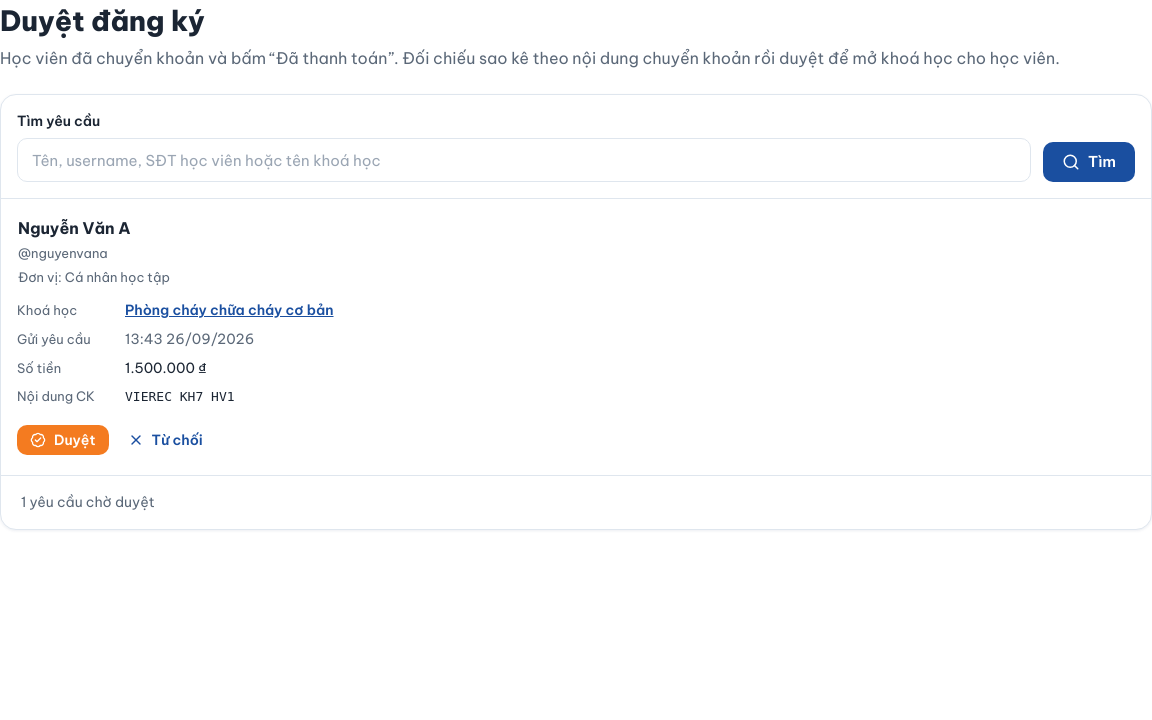
Test: EnrollmentRequestsPage (duyệt đăng ký) › approves a request so the learner can start the course
Click the button "Duyệt".
click(63, 440)  # box [17,424,108,455]
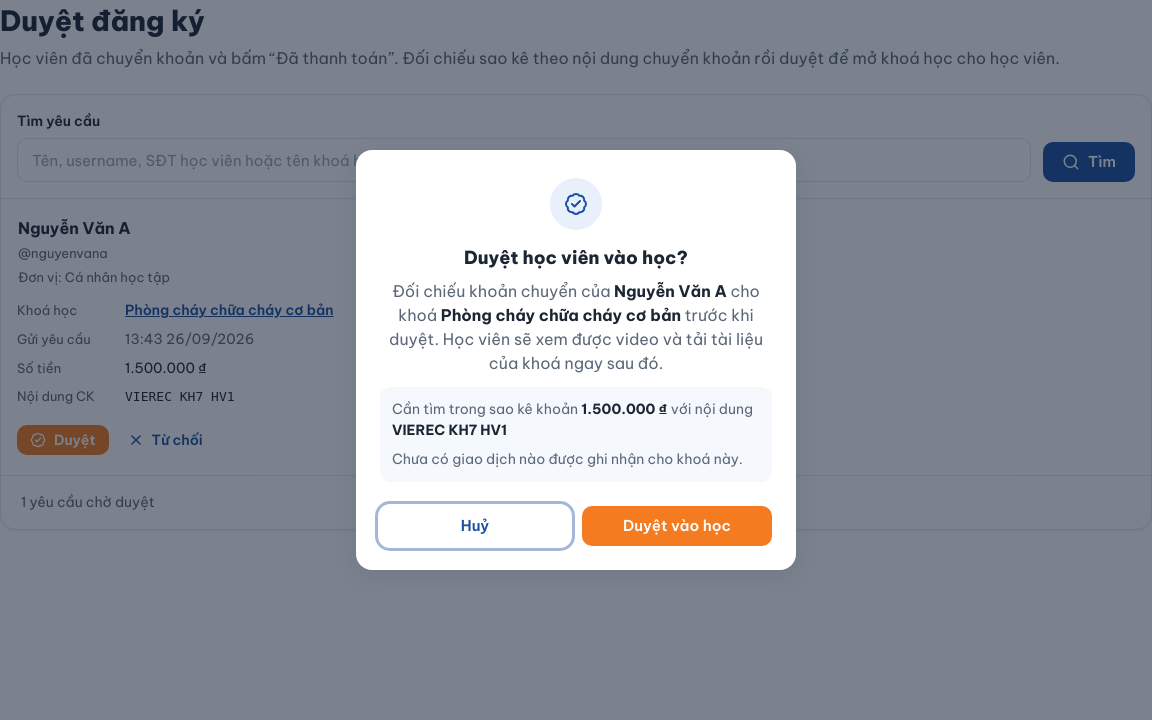
Click the button "Duyệt vào học".
click(677, 526)  # box [582,506,772,546]
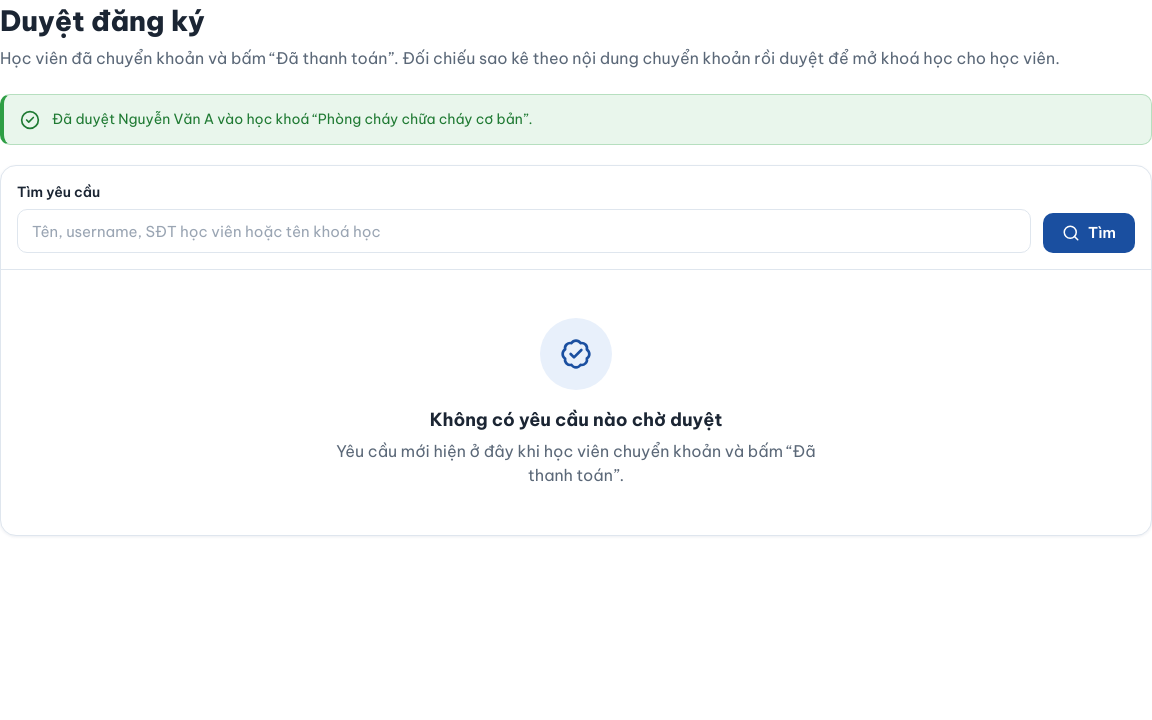
Expected: the text "Đã duyệt Nguyễn Văn A vào học khoá" is shown, [52,110,532,128]
Expected: the text "Không có yêu cầu nào chờ duyệt" is shown, [430,406,722,433]
